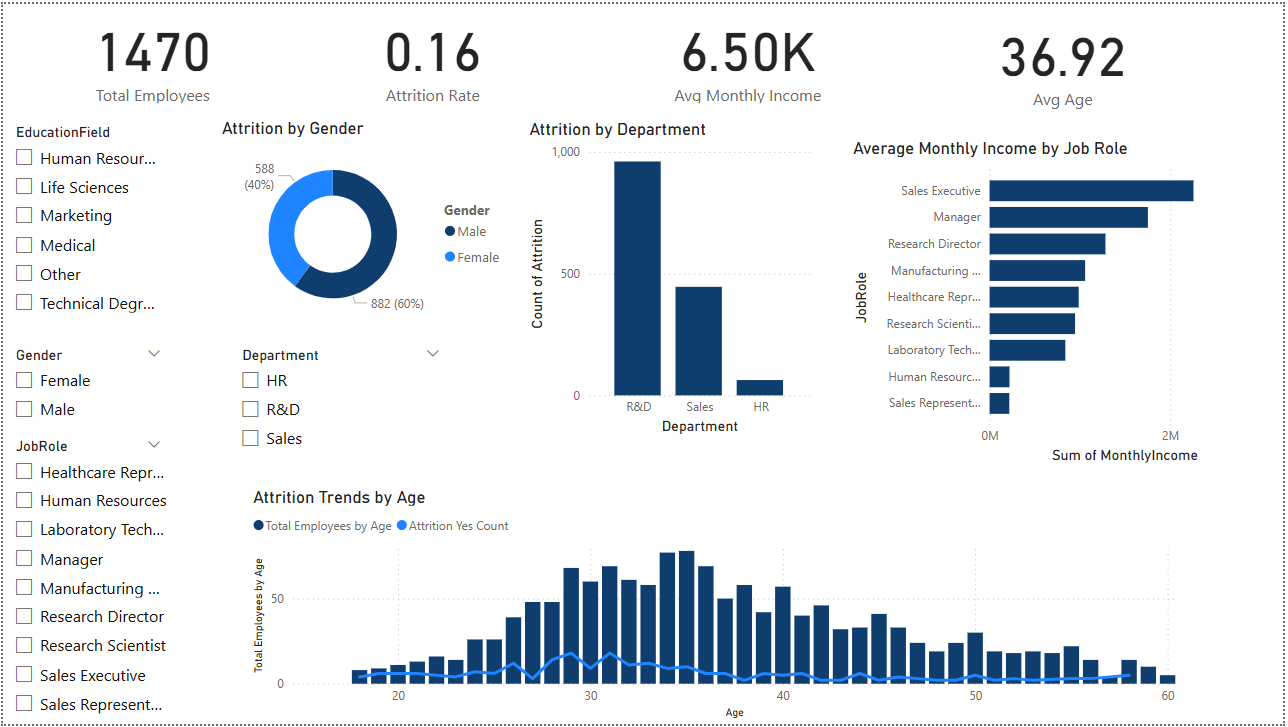

The dashboard page shown, as its layout file describes it:
{"tool":"powerbi","page":{"name":"Page 1","canvas":[1280,720],"ordinal":0},"visuals":[{"type":"card","fields":{"Values":["HR_Clean xlsx.Total Employees"]},"box":[9.6,0,279.9,104.3],"z":0},{"type":"card","fields":{"Values":["HR_Clean xlsx.Avg Monthly Income"]},"box":[605.1,0,279.9,104.3],"z":1000},{"type":"card","fields":{"Values":["HR_Clean xlsx.Avg Age"]},"box":[919.6,0,280,113.7],"z":2000},{"type":"card","fields":{"Values":["HR_Clean xlsx.Attrition Rate"]},"box":[289.5,0,279.9,104.3],"z":3000},{"type":"clusteredColumnChart","title":"Attrition by Department","fields":{"Category":["HR_Clean xlsx.Department"],"Y":["CountNonNull(HR_Clean xlsx.Attrition)"]},"box":[520.9,114.9,291,320.4],"z":4000},{"type":"clusteredBarChart","title":"Average Monthly Income by Job Role","fields":{"Y":["Sum(HR_Clean xlsx.MonthlyIncome)"],"Category":["HR_Clean xlsx.JobRole"]},"box":[845,133.3,426.8,330.2],"z":5000},{"type":"slicer","fields":{"Values":["HR_Clean xlsx.EducationField"]},"box":[0,114.9,160.2,223.8],"z":6000},{"type":"donutChart","title":"Attrition by Gender","fields":{"Category":["HR_Clean xlsx.Gender"],"Y":["CountNonNull(HR_Clean xlsx.Attrition)"]},"box":[214,113.7,298.4,214],"z":7000},{"type":"lineClusteredColumnComboChart","title":"Attrition Trends by Age","fields":{"Category":["HR_Clean xlsx.Age"],"Y":["HR_Clean xlsx.Total Employees by Age"],"Y2":["HR_Clean xlsx.Attrition Yes Count"]},"box":[244.6,483,933,237.2],"z":8000},{"type":"slicer","fields":{"Values":["HR_Clean xlsx.JobRole"]},"box":[0,429.2,170,291],"z":9000},{"type":"slicer","fields":{"Values":["HR_Clean xlsx.Department"]},"box":[226.2,337.5,222.6,116.2],"z":10000},{"type":"slicer","fields":{"Values":["HR_Clean xlsx.Gender"]},"box":[0,337.5,170,97.8],"z":10001}]}

Visuals, with their boxes in screenshot pixels (x1, y1, x2, y2), scaled from the page's 1280x720 canvas onto the 1288x727 screenshot:
card - HR_Clean xlsx.Total Employees: <bbox>10, 0, 291, 105</bbox>
card - HR_Clean xlsx.Avg Monthly Income: <bbox>609, 0, 891, 105</bbox>
card - HR_Clean xlsx.Avg Age: <bbox>925, 0, 1207, 115</bbox>
card - HR_Clean xlsx.Attrition Rate: <bbox>291, 0, 573, 105</bbox>
"Attrition by Department" clusteredColumnChart: <bbox>524, 116, 817, 440</bbox>
"Average Monthly Income by Job Role" clusteredBarChart: <bbox>850, 135, 1280, 468</bbox>
slicer - HR_Clean xlsx.EducationField: <bbox>0, 116, 161, 342</bbox>
"Attrition by Gender" donutChart: <bbox>215, 115, 516, 331</bbox>
"Attrition Trends by Age" lineClusteredColumnComboChart: <bbox>246, 488, 1185, 726</bbox>
slicer - HR_Clean xlsx.JobRole: <bbox>0, 433, 171, 726</bbox>
slicer - HR_Clean xlsx.Department: <bbox>228, 341, 452, 458</bbox>
slicer - HR_Clean xlsx.Gender: <bbox>0, 341, 171, 440</bbox>
